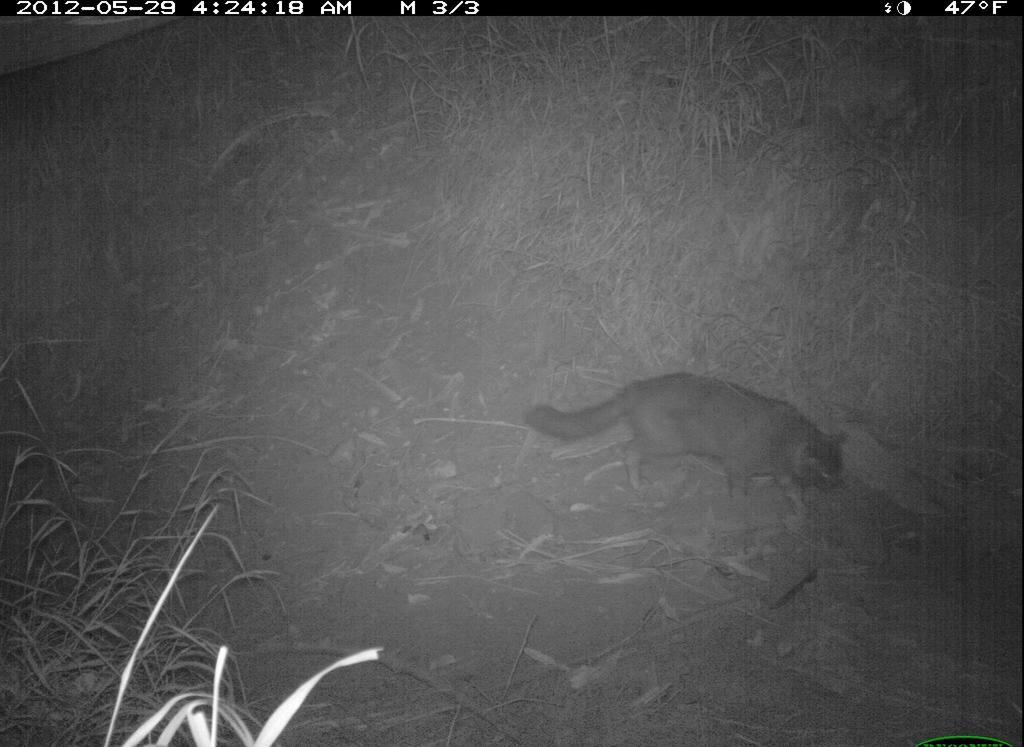cat: (496, 327, 897, 628)
